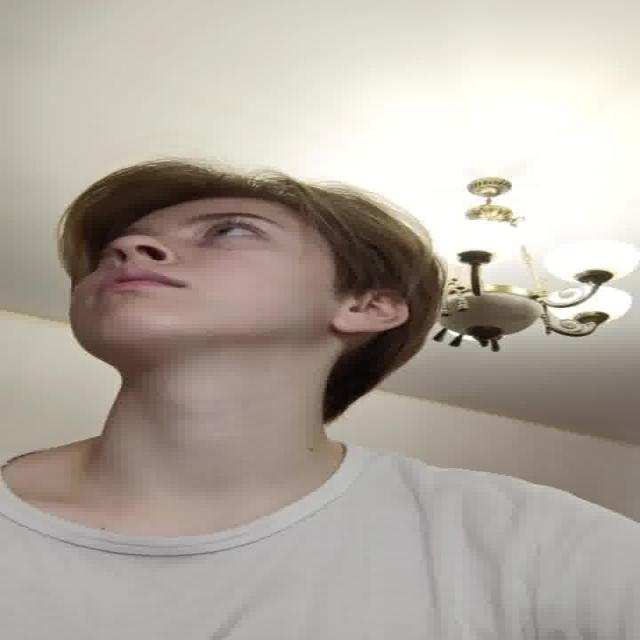earlobe: (331, 316, 374, 334)
eye: (199, 221, 267, 240)
nose: (108, 255, 169, 271)
wholeear: (332, 288, 412, 332)
